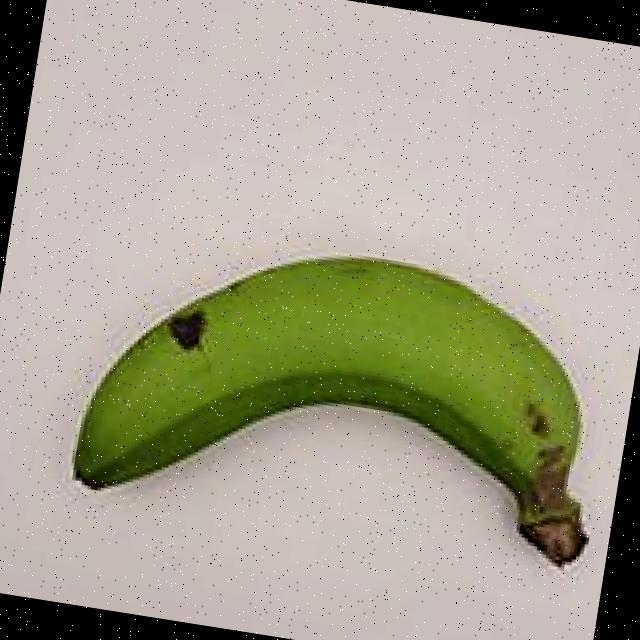Raw: (51, 188, 640, 626)
